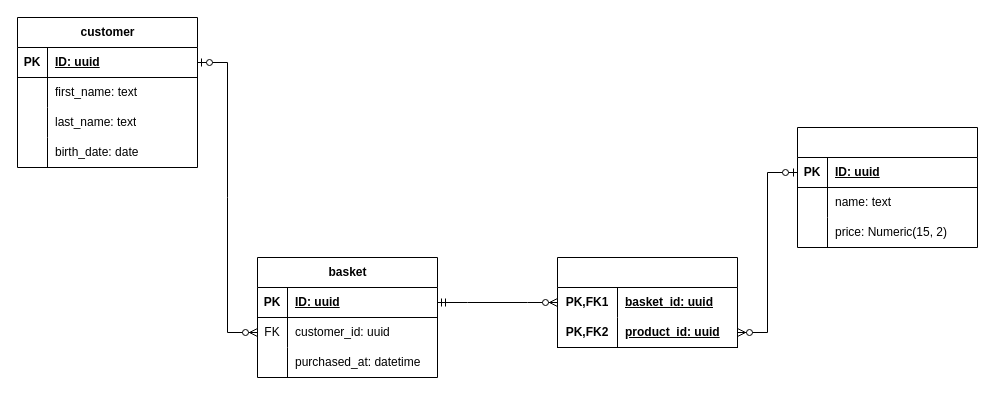
Image size: 995x395. Some labels were removed from this diagram. Each missing label, with the box of its shape:
basket_products: (556, 256, 738, 348)
product: (796, 126, 978, 248)
